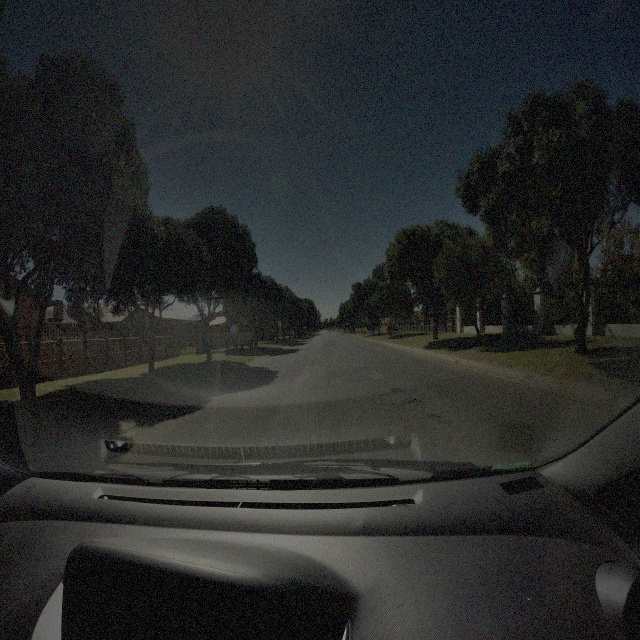pothole: (428, 412, 441, 423), (409, 397, 424, 406), (391, 386, 404, 395)
